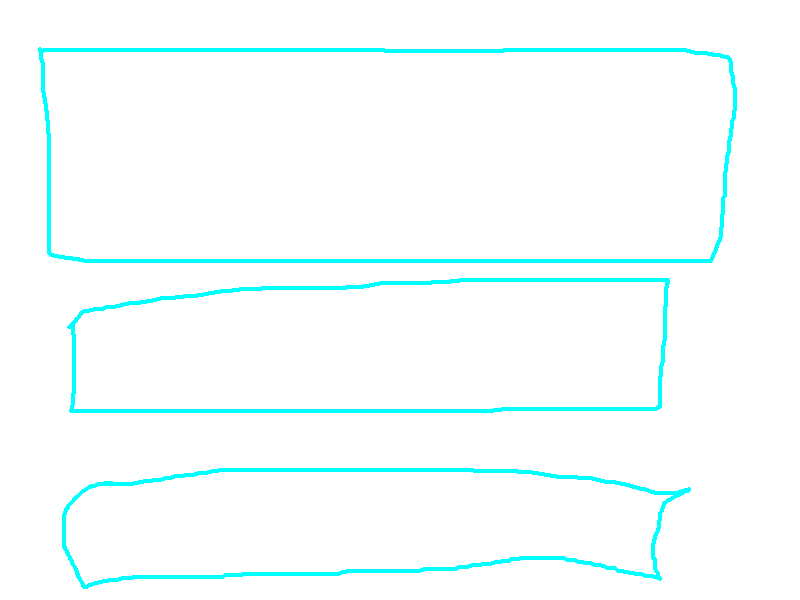rect: (35, 39, 739, 269), (68, 277, 679, 417), (59, 458, 698, 591)
